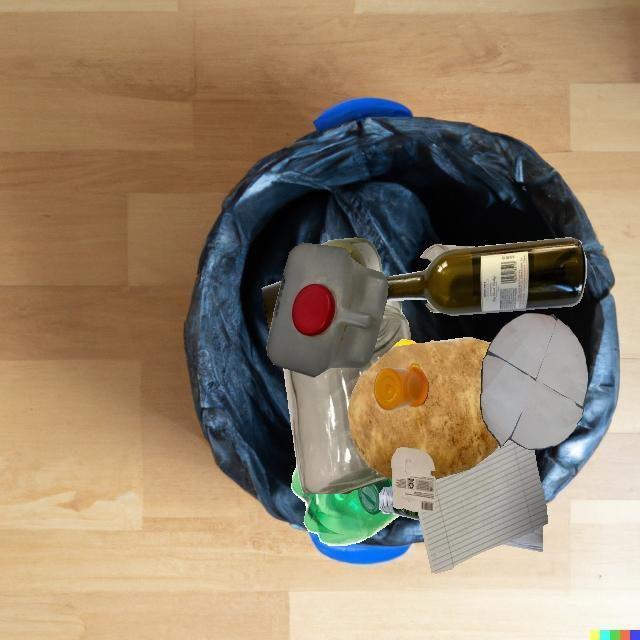biowaste: (348, 337, 499, 479), (390, 339, 416, 349)
glass: (283, 300, 411, 494), (385, 237, 586, 316), (404, 493, 543, 552), (322, 237, 382, 273), (262, 281, 282, 334), (420, 244, 476, 262)
paper: (418, 439, 548, 573), (480, 313, 588, 449), (391, 447, 435, 513)
plastic: (266, 243, 388, 378), (291, 465, 399, 545), (373, 363, 428, 411)
